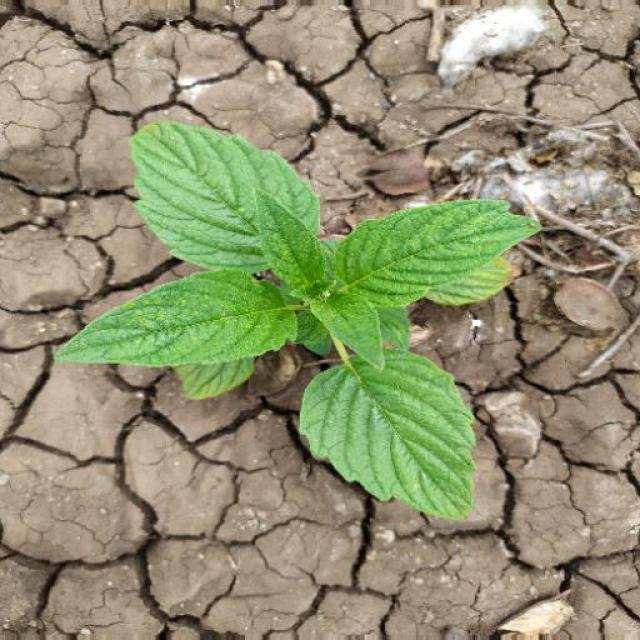crop: (58, 88, 538, 514)
